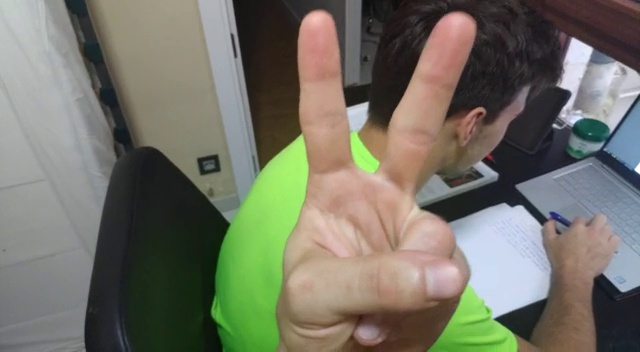Peace: (280, 3, 477, 352)
